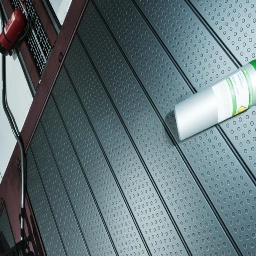0: (174, 59, 256, 141)
FireExtinguisher ]: (0, 0, 30, 56)
